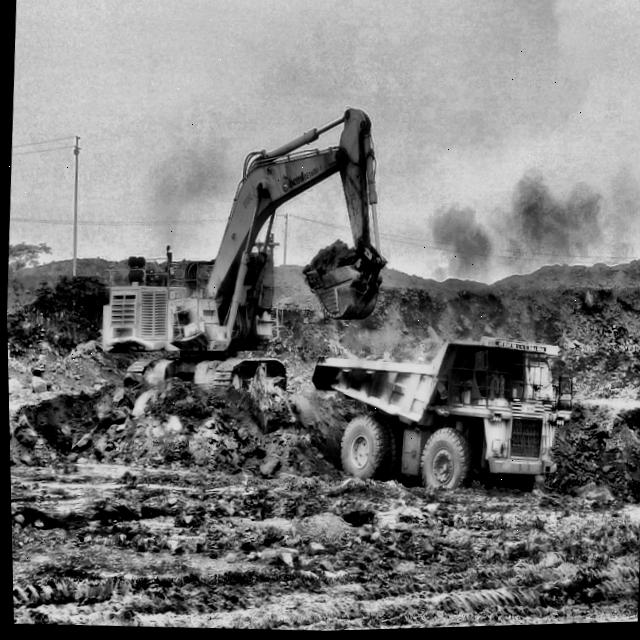dump_truck: (300, 334, 567, 502)
excavator: (96, 108, 391, 392)
